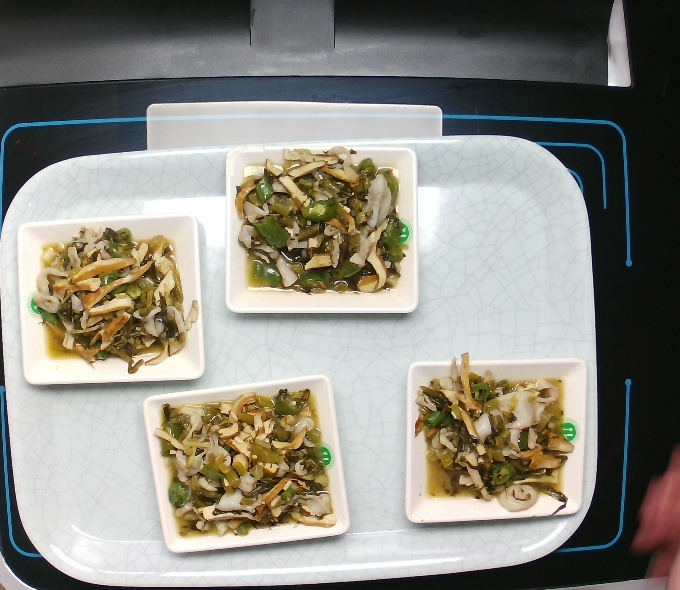wcq-YouYuXueCaiDouGan: (158, 388, 334, 539), (238, 148, 408, 294), (29, 226, 188, 364), (415, 373, 570, 509)
